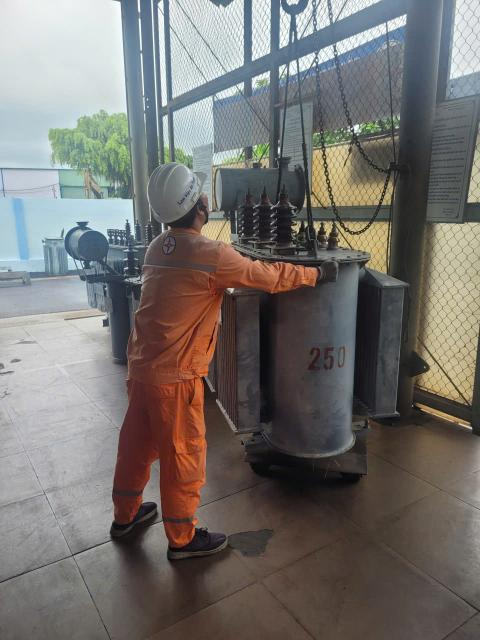gloves: (312, 256, 351, 285)
helmet: (141, 156, 209, 228)
shoes: (104, 495, 161, 548), (152, 526, 228, 562)
